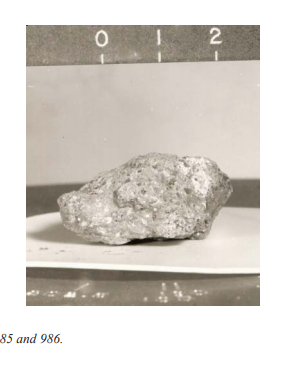Breccia: (41, 145, 245, 243)
